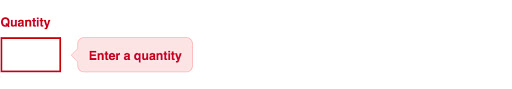error_field: (1, 35, 61, 73)
error_message: (87, 48, 182, 64), (1, 16, 52, 31)
